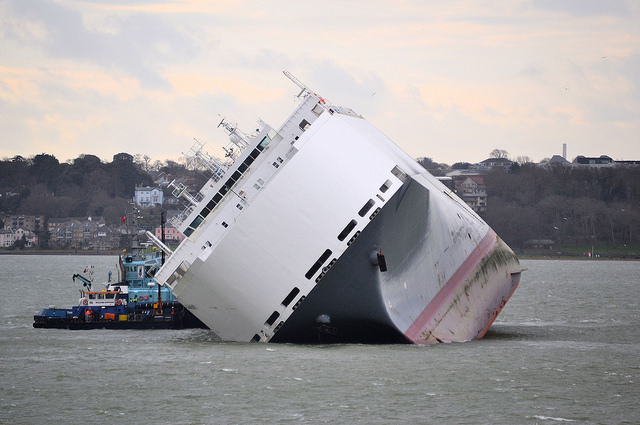PCC: (143, 78, 539, 352)
tug_boat: (32, 262, 174, 332)
